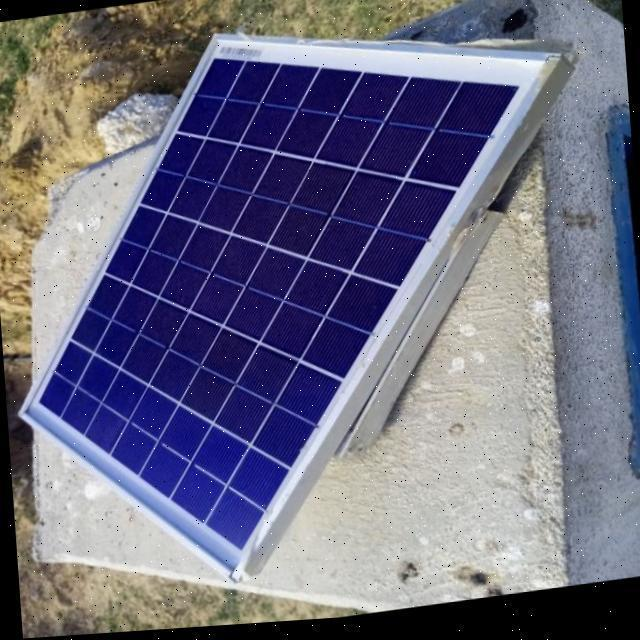Normal Solar Panel: (0, 0, 580, 603)
